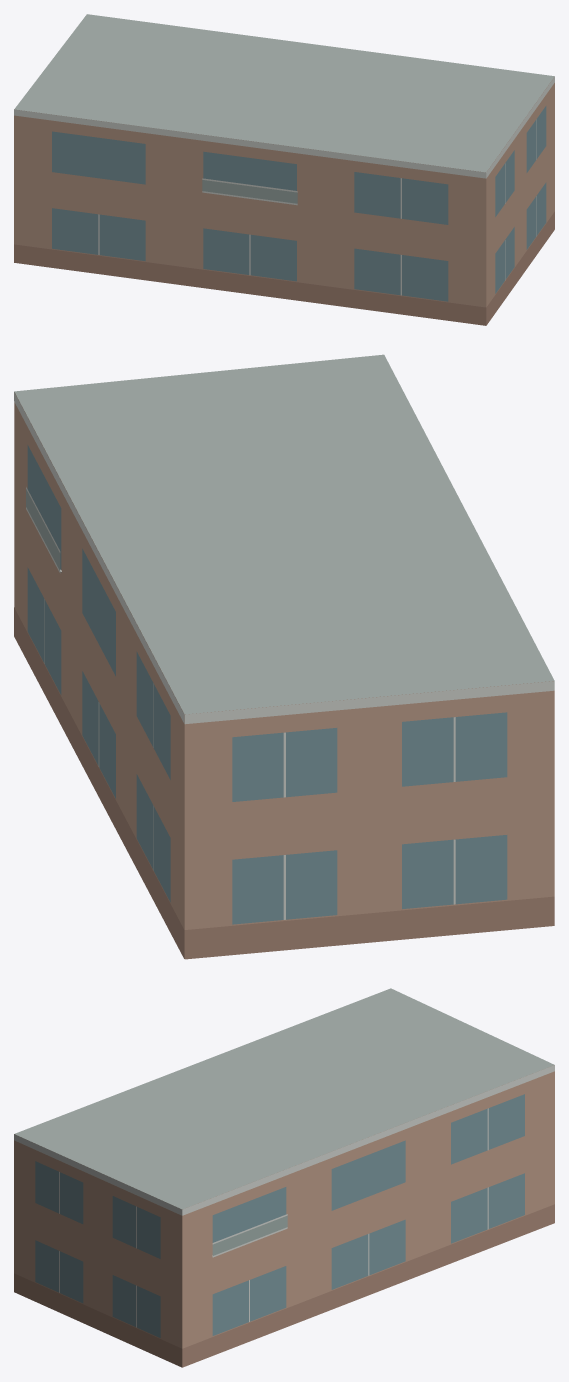
Rendered from survey-upis-32934857.glb.
3 renders of one model, top to bottom at view 1: azimuth 30°, elevation 25°; view 2: azimuth 150°, elevation 25°; view 3: azimuth 270°, elevation 25°, orthographic. The views are drawn at different scales.
Parts seen in each view (by area): view 1: survey-upis-32934857.tmp; view 2: survey-upis-32934857.tmp; view 3: survey-upis-32934857.tmp.
Boxes of the visible parts, <box> form: survey-upis-32934857.tmp: <box>14,14,554,325</box>; survey-upis-32934857.tmp: <box>14,354,554,959</box>; survey-upis-32934857.tmp: <box>14,988,554,1367</box>.
Size of the model in its own units: 18.31 by 6.1 by 18.91.
